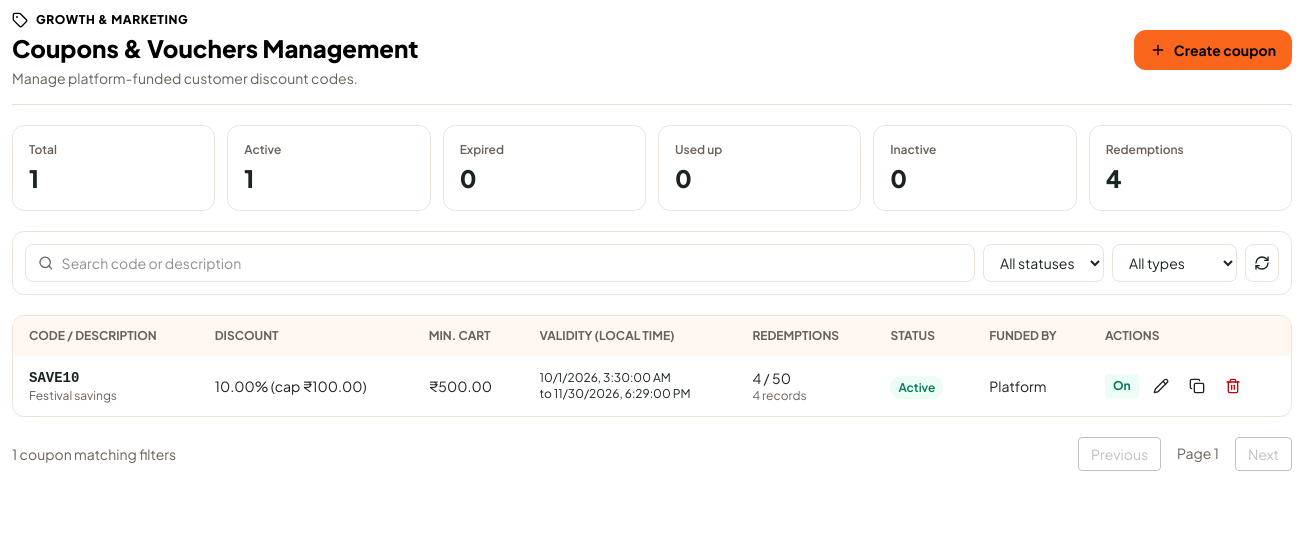
CouponManagementModule › keeps the toggle unchanged and shows the error when PATCH fails
Click the switch named "Deactivate SAVE10": (1122, 386) [1105,374,1139,398]
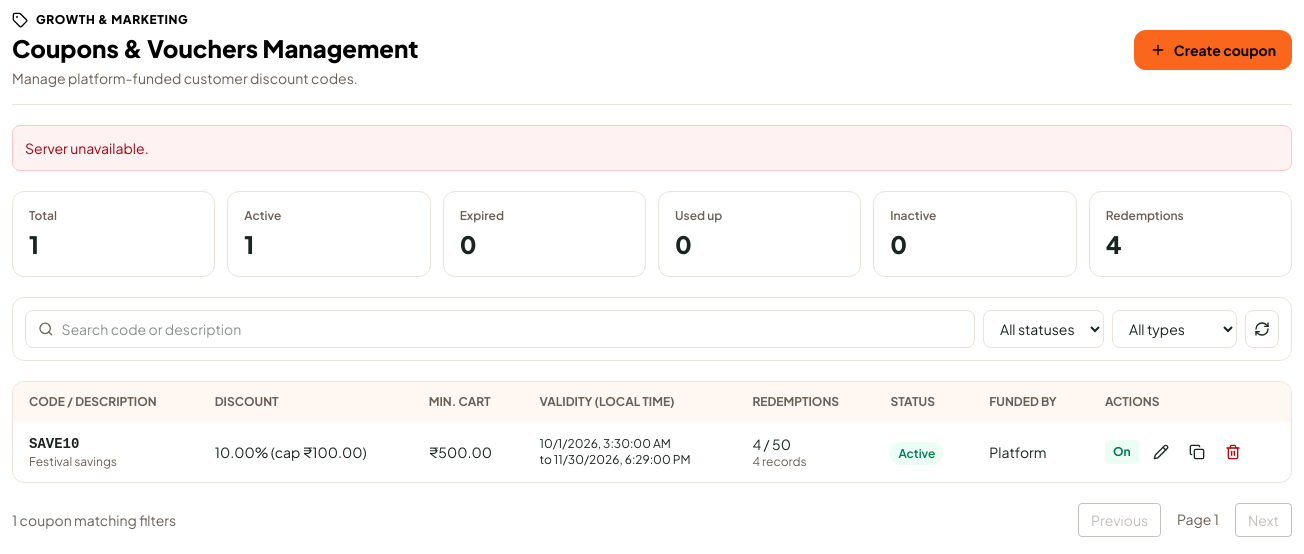
Check: the message reads "Server unavailable.", box [25,139,149,157]
